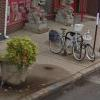Bicycle: (44, 24, 94, 65)
